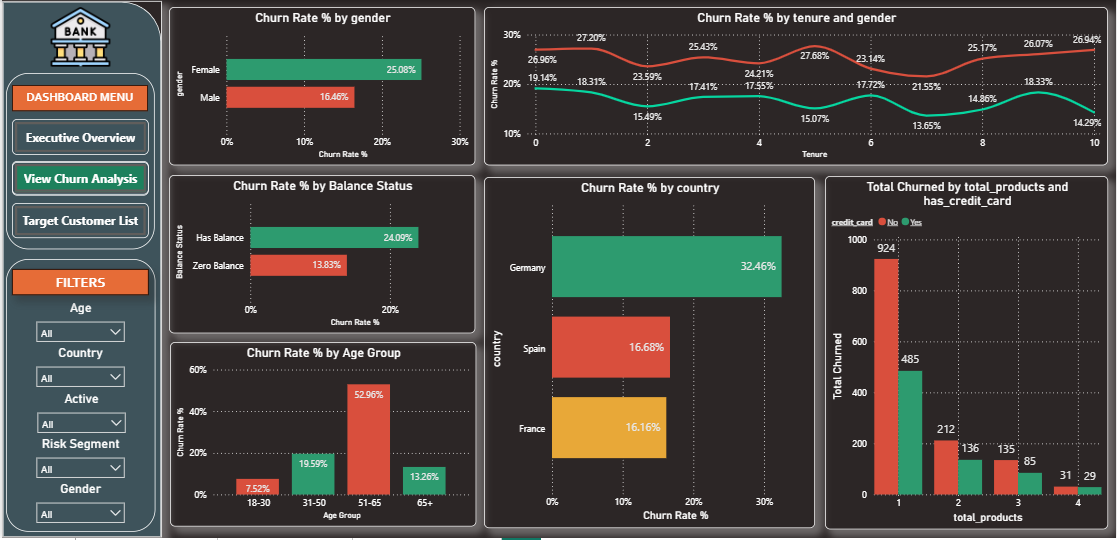

The dashboard page shown, as its layout file describes it:
{"tool":"powerbi","page":{"name":"Churn Deep-Dive","canvas":[1492,720],"ordinal":1},"visuals":[{"type":"actionButton","box":[13.3,159.6,183.3,48.3],"z":0,"group":"g3"},{"type":"actionButton","box":[13.3,216.9,183.3,45],"z":0,"group":"g2"},{"type":"clusteredBarChart","fields":{"Category":["final_bank_churn.country"],"Y":["final_bank_churn.Churn Rate %"]},"box":[645.5,236.3,443.4,469.9],"z":0},{"type":"actionButton","box":[13.3,270.8,182.9,47.1],"z":0,"group":"g1"},{"type":"lineChart","fields":{"Category":["final_bank_churn.tenure"],"Y":["final_bank_churn.Churn Rate %"],"Series":["final_bank_churn.gender"]},"box":[645.5,9.1,835.4,212.4],"z":1000},{"type":"actionButton","title":"churn highlight","box":[13,216,183.3,45],"z":1000,"group":"g2"},{"type":"clusteredColumnChart","fields":{"Category":["final_bank_churn.total_products"],"Y":["final_bank_churn.Total Churned"],"Series":["final_bank_churn.has_credit_card"]},"box":[1101.6,235.7,379.5,472.9],"z":2000},{"type":"barChart","fields":{"Category":["final_bank_churn.gender"],"Y":["final_bank_churn.Churn Rate %"]},"box":[224,10,410,212],"z":3000},{"type":"columnChart","fields":{"Category":["final_bank_churn.Age Group"],"Y":["final_bank_churn.Churn Rate %"]},"box":[224.3,457.1,410,247.1],"z":4000},{"type":"barChart","fields":{"Category":["final_bank_churn.Balance Status"],"Y":["final_bank_churn.Churn Rate %"]},"box":[224,234.5,410,212],"z":5000},{"type":"shape","box":[0,2,214,718],"z":6000},{"type":"shape","box":[5.7,98,198.6,235.7],"z":7000},{"type":"textbox","box":[13.3,114.4,181.7,35],"z":8000},{"type":"image","box":[11.7,10,186.7,80],"z":9000},{"type":"shape","box":[5,346.9,200,365],"z":10000},{"type":"slicer","title":"Age","fields":{"Values":["final_bank_churn.Age Group"]},"box":[36.7,401.8,138.3,70],"z":11000},{"type":"slicer","title":"Risk Segment ","fields":{"Values":["final_bank_churn.risk_segment"]},"box":[36.7,583.1,138.3,70],"z":12000},{"type":"slicer","title":"Active","fields":{"Values":["final_bank_churn.is_active"]},"box":[37,522.7,138,70],"z":13000},{"type":"slicer","title":"Country","fields":{"Values":["final_bank_churn.country"]},"box":[36.7,462.2,138.3,70],"z":14000},{"type":"textbox","box":[13.3,360.2,183.3,35],"z":15000},{"type":"slicer","title":"Gender","fields":{"Values":["final_bank_churn.gender"]},"box":[36.7,643.5,138.3,56.7],"z":16000},{"type":"group","id":"g1","title":"target group","box":[13,270,183.2,48],"z":17000},{"type":"group","id":"g2","title":"churn group","box":[13,216,183.7,45.9],"z":18000},{"type":"group","id":"g3","title":"executive group","box":[13,159,183.7,48.9],"z":19000}]}

Visuals, with their boxes on the page's 1492x720 design canvas (x1, y1, x2, y2). These are canvas units, not pixel positions in the 1117x540 screenshot, which may show the page scaled, cropped or inside an application window:
actionButton: <bbox>13, 160, 197, 208</bbox>
actionButton: <bbox>13, 217, 197, 262</bbox>
clusteredBarChart - final_bank_churn.country x final_bank_churn.Churn Rate %: <bbox>646, 236, 1089, 706</bbox>
actionButton: <bbox>13, 271, 196, 318</bbox>
lineChart - final_bank_churn.tenure x final_bank_churn.Churn Rate %: <bbox>646, 9, 1481, 222</bbox>
"churn highlight" actionButton: <bbox>13, 216, 196, 261</bbox>
clusteredColumnChart - final_bank_churn.total_products x final_bank_churn.Total Churned: <bbox>1102, 236, 1481, 709</bbox>
barChart - final_bank_churn.gender x final_bank_churn.Churn Rate %: <bbox>224, 10, 634, 222</bbox>
columnChart - final_bank_churn.Age Group x final_bank_churn.Churn Rate %: <bbox>224, 457, 634, 704</bbox>
barChart - final_bank_churn.Balance Status x final_bank_churn.Churn Rate %: <bbox>224, 234, 634, 446</bbox>
shape: <bbox>0, 2, 214, 720</bbox>
shape: <bbox>6, 98, 204, 334</bbox>
textbox: <bbox>13, 114, 195, 149</bbox>
image: <bbox>12, 10, 198, 90</bbox>
shape: <bbox>5, 347, 205, 712</bbox>
"Age" slicer: <bbox>37, 402, 175, 472</bbox>
"Risk Segment " slicer: <bbox>37, 583, 175, 653</bbox>
"Active" slicer: <bbox>37, 523, 175, 593</bbox>
"Country" slicer: <bbox>37, 462, 175, 532</bbox>
textbox: <bbox>13, 360, 197, 395</bbox>
"Gender" slicer: <bbox>37, 644, 175, 700</bbox>
"target group" group: <bbox>13, 270, 196, 318</bbox>
"churn group" group: <bbox>13, 216, 197, 262</bbox>
"executive group" group: <bbox>13, 159, 197, 208</bbox>
